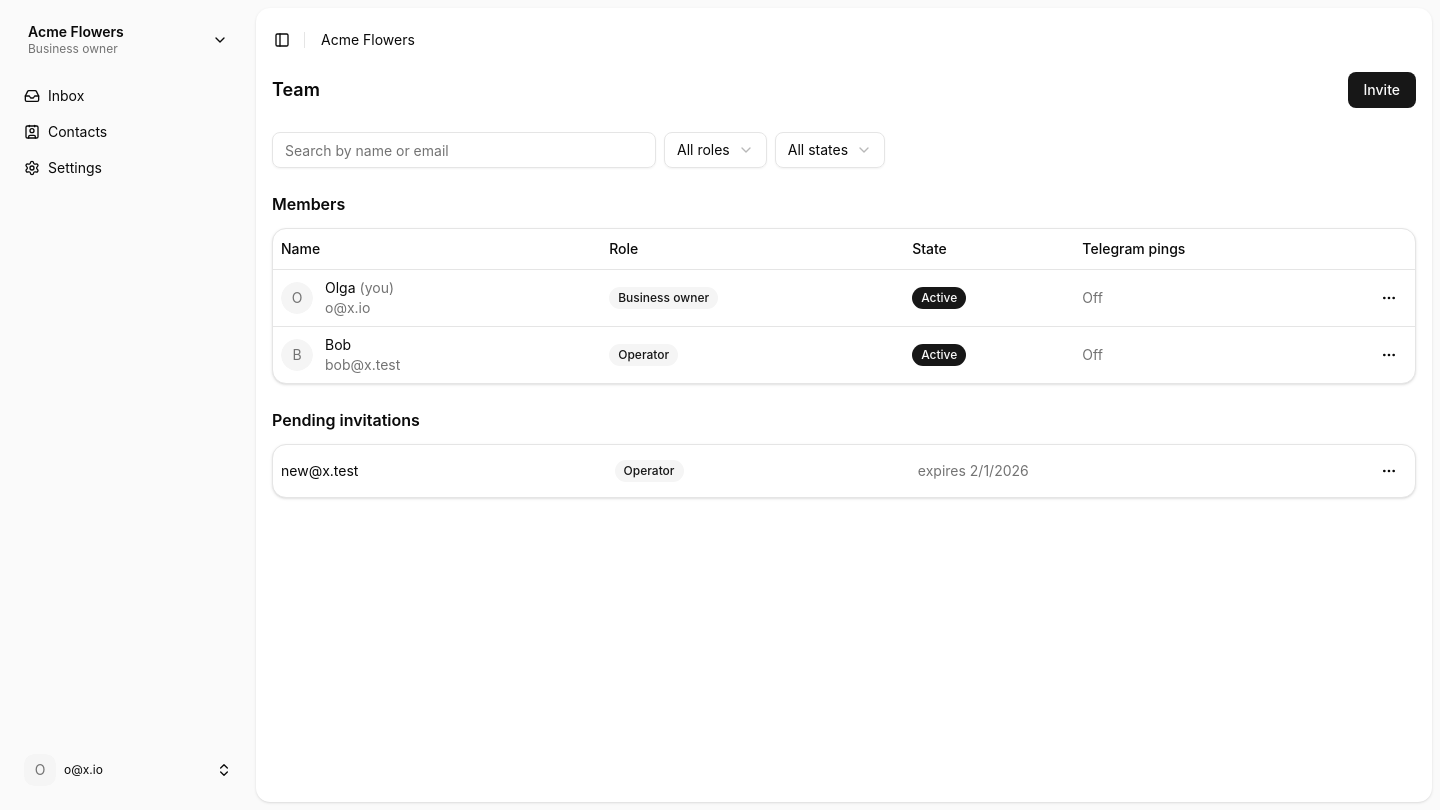
Test: TeamPage (SCR-07) › pending action: other row actions disabled while one is in flight
This screenshot has width=1440, height=810.
Expected: the text "Bob" is shown, [325, 336, 351, 352]
Press Enter in the button named "Actions for bob@x.test", box [1371, 336, 1407, 372]
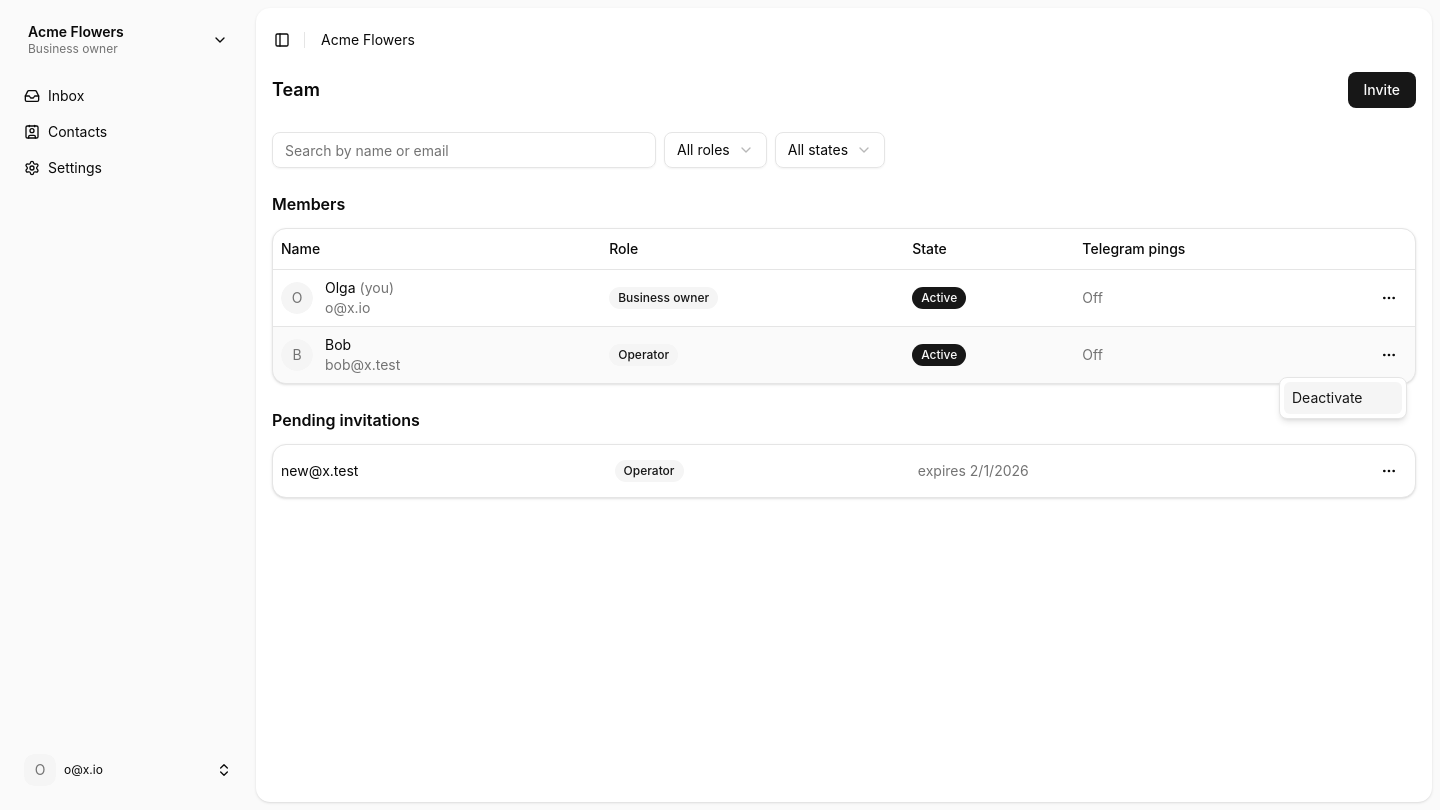
Click the menu item "Deactivate" at (1343, 398), box [1284, 382, 1402, 414]
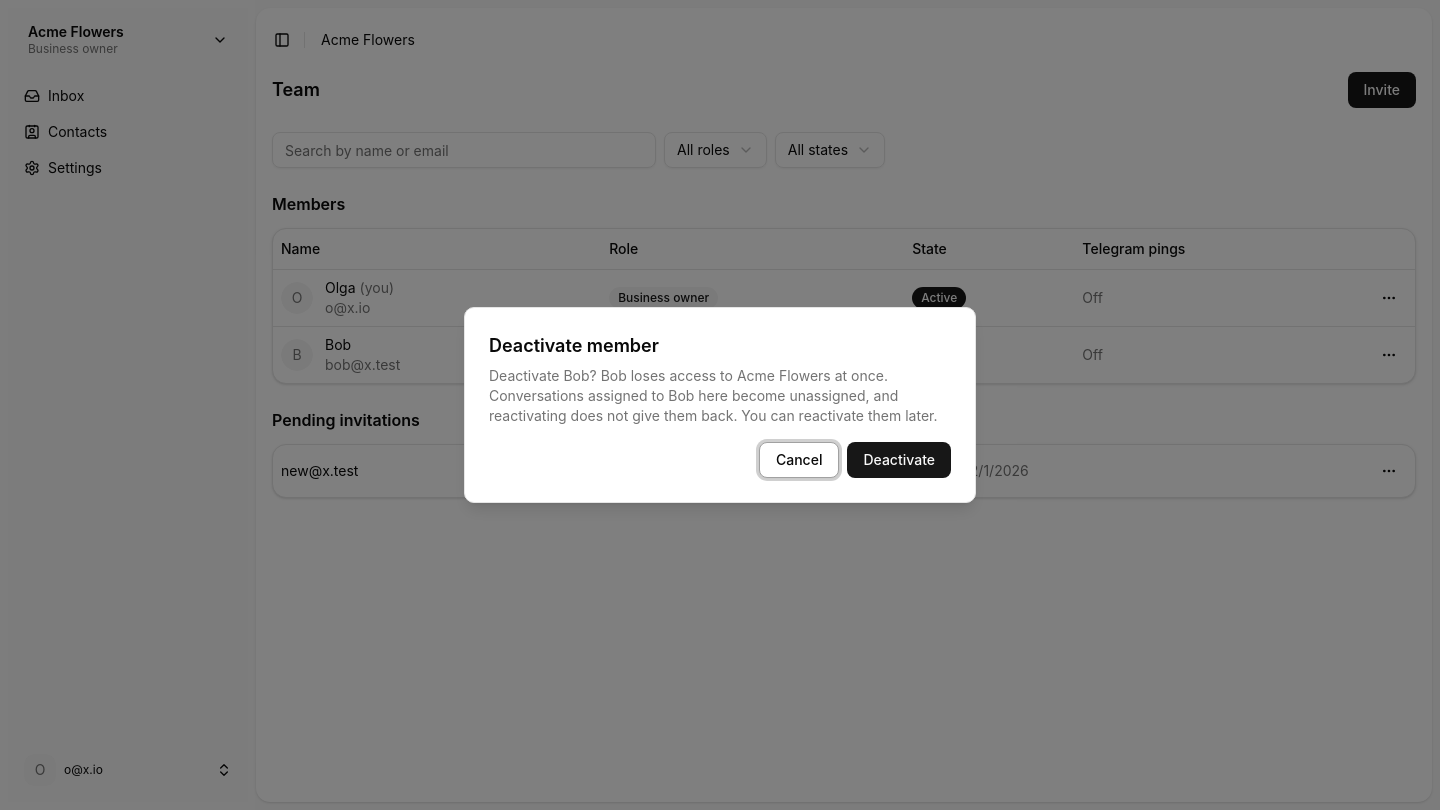
Click the button "Deactivate" at (899, 460), box [848, 442, 951, 478]
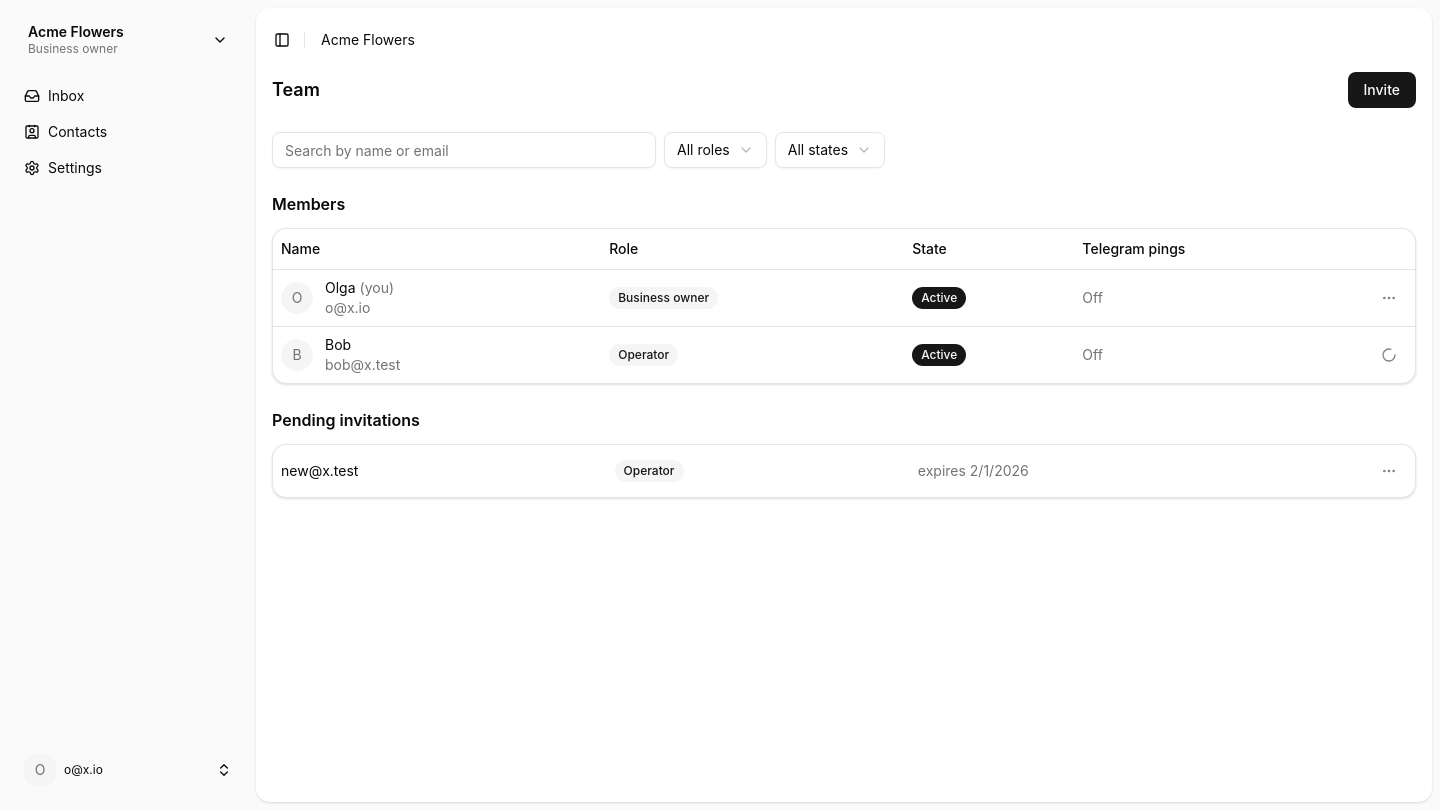
Expected: the button named "Actions for new@x.test" is disabled, [1371, 452, 1407, 488]
